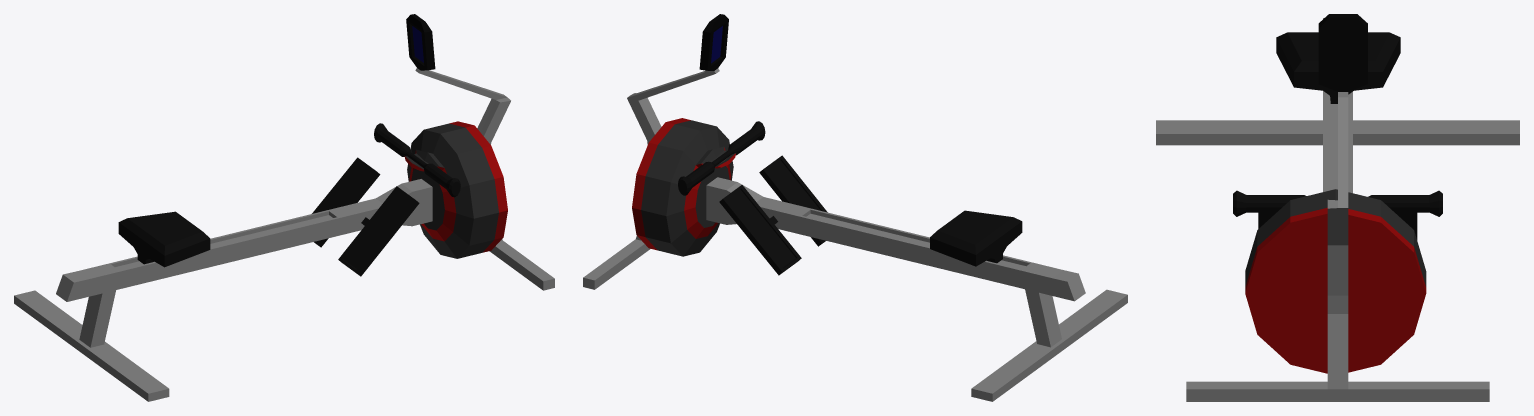
File: RowingMachine.001.fbx
3 views of the same model, side by side, from view 1: azimuth 30°, elevation 25°; view 2: azimuth 150°, elevation 25°; view 3: azimuth 270°, elevation 25° (orthographic). The views are drawn at different scales.
Parts seen in each view (by area): view 1: RowingMachine.001; view 2: RowingMachine.001; view 3: RowingMachine.001.
Boxes of the visible parts, bbox=[...] form: RowingMachine.001: bbox=[14, 14, 554, 401]; RowingMachine.001: bbox=[583, 14, 1127, 401]; RowingMachine.001: bbox=[1156, 14, 1519, 401].
Bounding box in the file's own units: 187 × 100 × 97.43.
